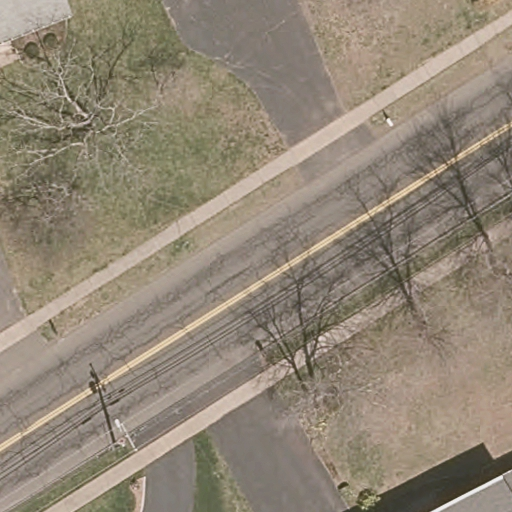DT: (113, 417, 139, 455)
